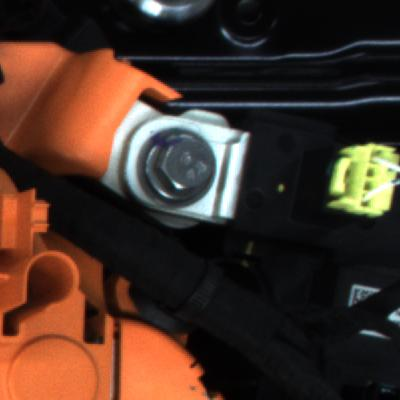nut_b: (140, 121, 227, 209)
